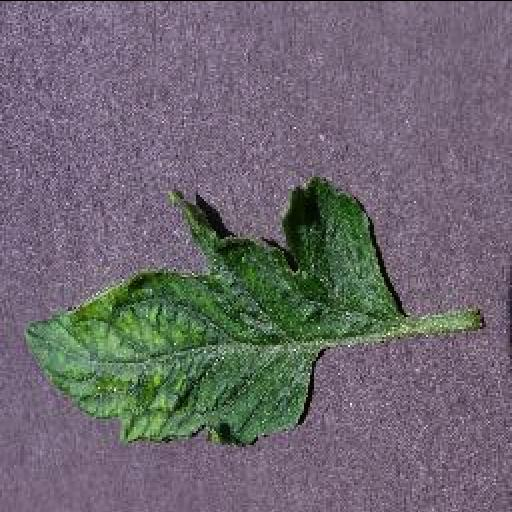Mosaic Virus: (20, 172, 406, 444)
